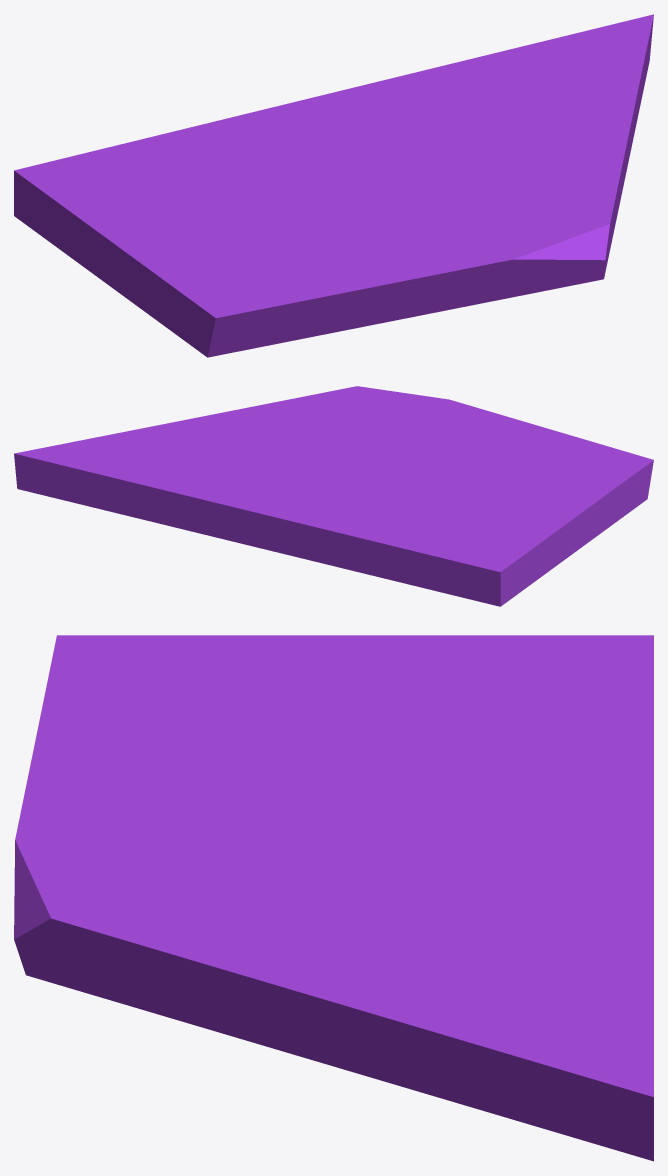
Rendered from Glass_106_2_chunks.fbx.
3 renders of one model, top to bottom at view 1: azimuth 30°, elevation 25°; view 2: azimuth 150°, elevation 25°; view 3: azimuth 270°, elevation 25°, orthographic. The views are drawn at different scales.
Visible parts, largest first — view 1: Glass_106_2_0, Glass_106_2_7, Glass_106_2_8, Glass_106_2_14, Glass_106_2_9, Glass_106_2_15, Glass_106_2_11, Glass_106_2_2, Glass_106_2_10, Glass_106_2_5, Glass_106_2_25, Glass_106_2_33 (+8 smaller); view 2: Glass_106_2_0, Glass_106_2_9, Glass_106_2_8, Glass_106_2_7, Glass_106_2_14, Glass_106_2_11, Glass_106_2_27, Glass_106_2_2, Glass_106_2_33, Glass_106_2_10, Glass_106_2_25, Glass_106_2_15 (+13 smaller); view 3: Glass_106_2_7, Glass_106_2_8, Glass_106_2_0, Glass_106_2_9, Glass_106_2_6, Glass_106_2_11, Glass_106_2_14, Glass_106_2_2, Glass_106_2_10, Glass_106_2_15, Glass_106_2_5, Glass_106_2_25 (+6 smaller).
Boxes of the visible parts, x1,y1,x2,y2 form: Glass_106_2_0: (24, 184, 282, 295); Glass_106_2_7: (456, 157, 623, 301); Glass_106_2_8: (501, 14, 653, 169); Glass_106_2_14: (155, 243, 308, 357); Glass_106_2_9: (14, 120, 257, 198); Glass_106_2_15: (296, 244, 496, 316); Glass_106_2_11: (188, 142, 407, 201); Glass_106_2_2: (268, 195, 490, 302); Glass_106_2_10: (306, 130, 494, 201); Glass_106_2_5: (417, 125, 542, 230); Glass_106_2_25: (222, 98, 377, 144); Glass_106_2_33: (436, 25, 609, 90); Glass_106_2_0: (442, 475, 608, 595); Glass_106_2_9: (339, 515, 514, 587); Glass_106_2_8: (14, 407, 285, 473); Glass_106_2_7: (248, 386, 460, 428); Glass_106_2_14: (528, 443, 653, 515); Glass_106_2_11: (350, 451, 466, 515); Glass_106_2_27: (32, 473, 209, 531); Glass_106_2_2: (396, 411, 487, 491); Glass_106_2_33: (47, 457, 210, 491); Glass_106_2_10: (256, 448, 398, 500); Glass_106_2_25: (268, 485, 363, 545); Glass_106_2_15: (448, 403, 597, 458); Glass_106_2_7: (14, 828, 289, 1039); Glass_106_2_8: (243, 928, 653, 1115); Glass_106_2_0: (232, 635, 596, 754); Glass_106_2_9: (461, 635, 653, 788); Glass_106_2_6: (243, 1009, 653, 1161); Glass_106_2_11: (269, 714, 557, 826); Glass_106_2_14: (45, 635, 264, 721); Glass_106_2_2: (63, 739, 390, 830); Glass_106_2_10: (262, 812, 515, 924); Glass_106_2_15: (17, 691, 168, 828); Glass_106_2_5: (144, 829, 431, 932); Glass_106_2_25: (484, 785, 653, 874).
Size of the model in its own units: 1311 by 89.14 by 768.
